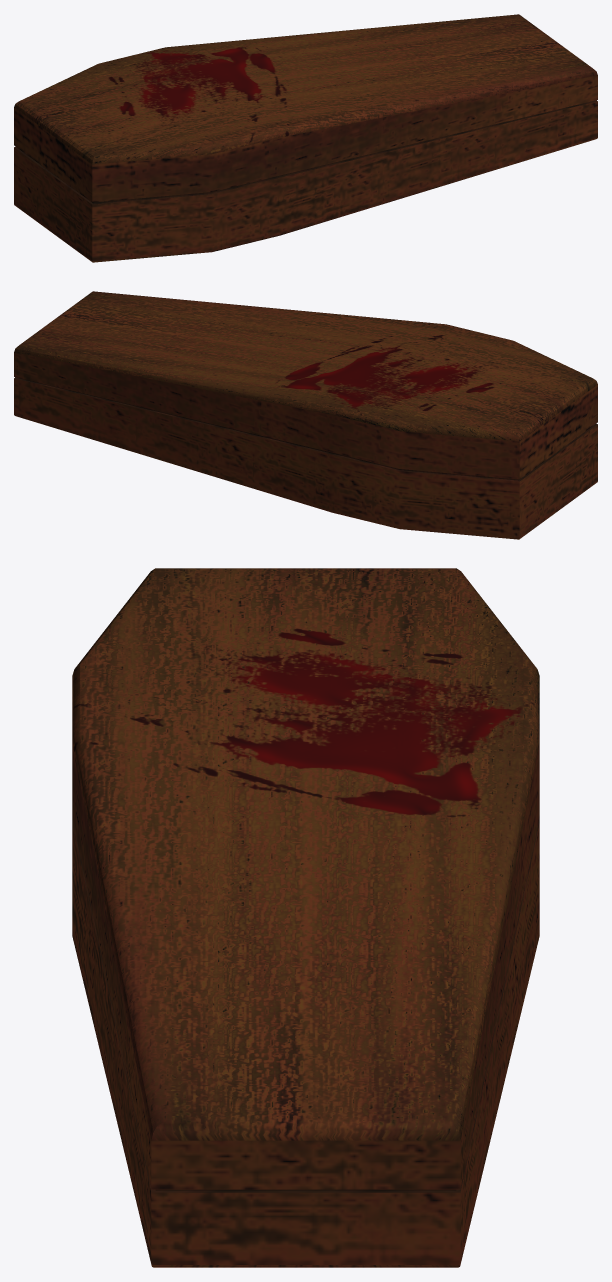
File: Horror_Final_Coffin.fbx
3 renders of one model, top to bottom at view 1: azimuth 30°, elevation 25°; view 2: azimuth 150°, elevation 25°; view 3: azimuth 270°, elevation 25°, orthographic. The views are drawn at different scales.
Visible parts, largest first — view 1: pCube6; view 2: pCube6; view 3: pCube6.
Part boxes in pixels (x1=…): pCube6: x1=14, y1=14, x2=597, y2=262; pCube6: x1=14, y1=291, x2=597, y2=539; pCube6: x1=72, y1=568, x2=539, y2=1267.
Size of the model in its own units: 150 by 29.97 by 59.99.
Materials: 1 (1 with a texture image).
